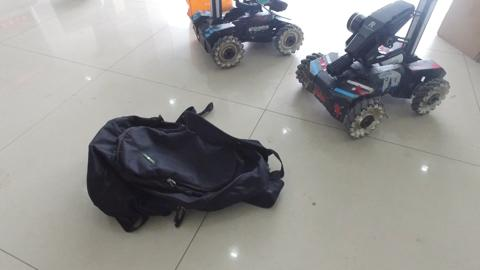bag: (90, 117, 286, 225)
chariot: (298, 1, 450, 141), (189, 1, 305, 68)
